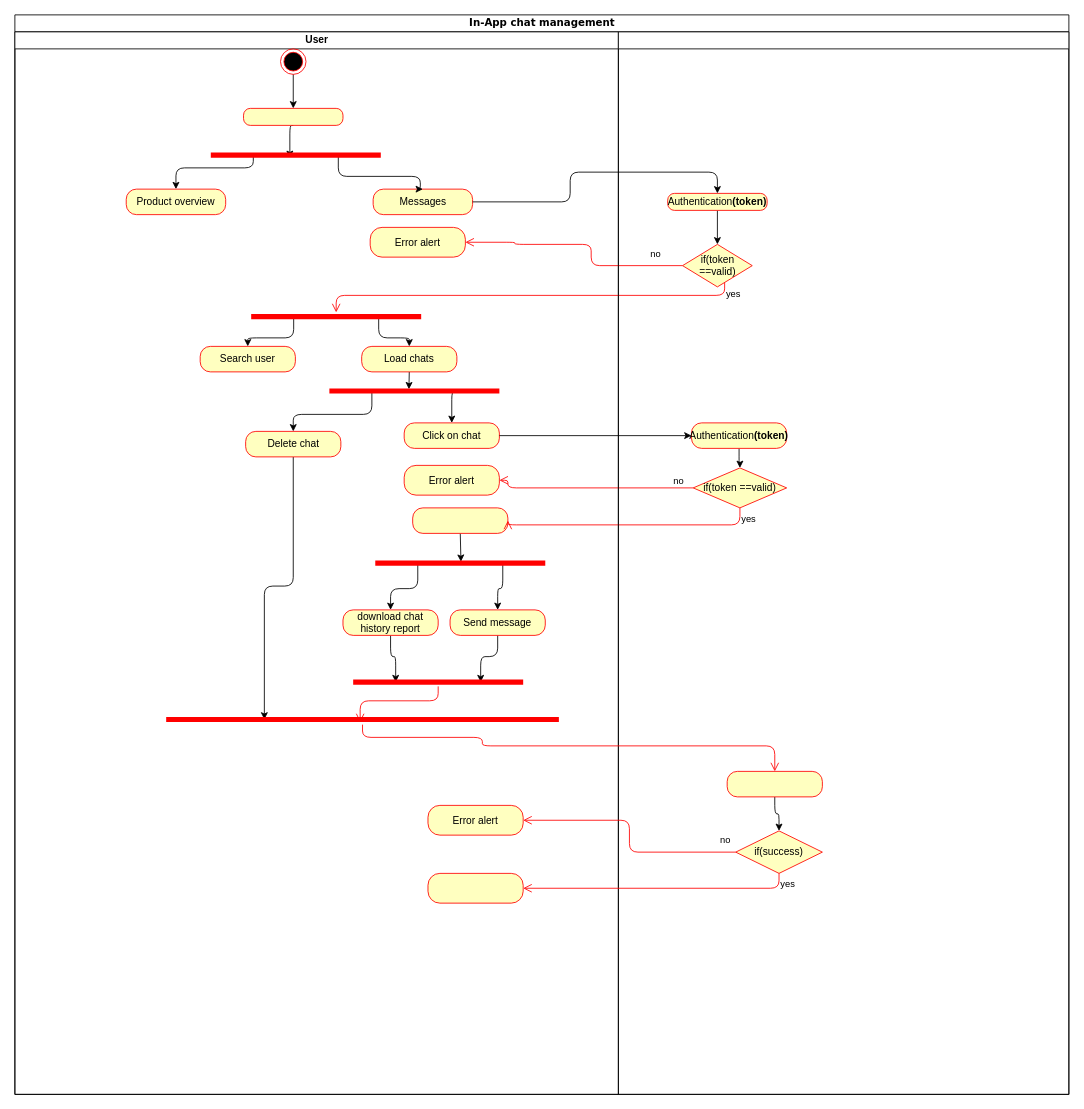
Image size: 1084x1109. Some labels were removed from this diagram. The shapes that lost their labels are listed below. From the top down, each one's box as (x1, y1, x2, y2) in pixels, then its label:
(243, 108, 343, 125): Login
(412, 507, 508, 533): View chat box
(618, 31, 1069, 1094): System
(726, 771, 822, 797): Save changes in the database
(427, 873, 523, 903): Success message
